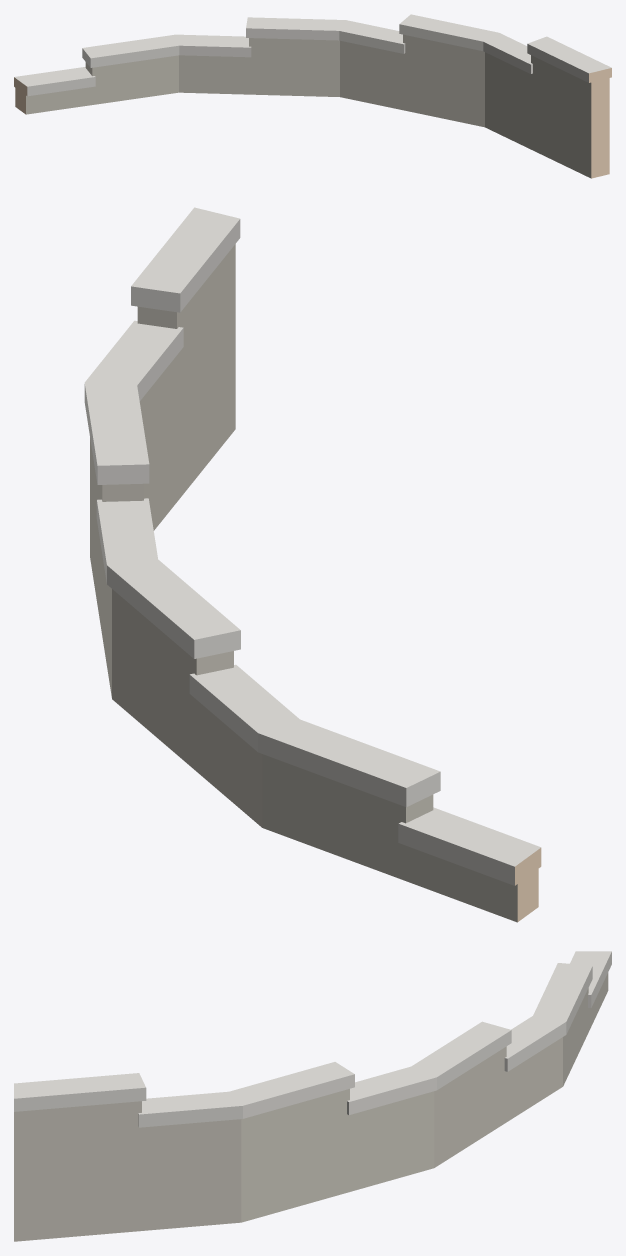
The model's file is Tiered_Retaining_Wall_Stepped_Curve_Short_5x5.glb.
3 views of the same model, one above another, from view 1: azimuth 30°, elevation 25°; view 2: azimuth 150°, elevation 25°; view 3: azimuth 270°, elevation 25° (orthographic). The views are drawn at different scales.
Visible parts, largest first — view 1: Tiered_Retaining_Wall_Stepped_Curve_Short_5x5; view 2: Tiered_Retaining_Wall_Stepped_Curve_Short_5x5; view 3: Tiered_Retaining_Wall_Stepped_Curve_Short_5x5.
Part boxes in pixels (x1=…): Tiered_Retaining_Wall_Stepped_Curve_Short_5x5: x1=14, y1=14, x2=611, y2=178; Tiered_Retaining_Wall_Stepped_Curve_Short_5x5: x1=84, y1=207, x2=541, y2=922; Tiered_Retaining_Wall_Stepped_Curve_Short_5x5: x1=14, y1=951, x2=611, y2=1241.
Bounding box in the file's own units: 516 × 138 × 516.
